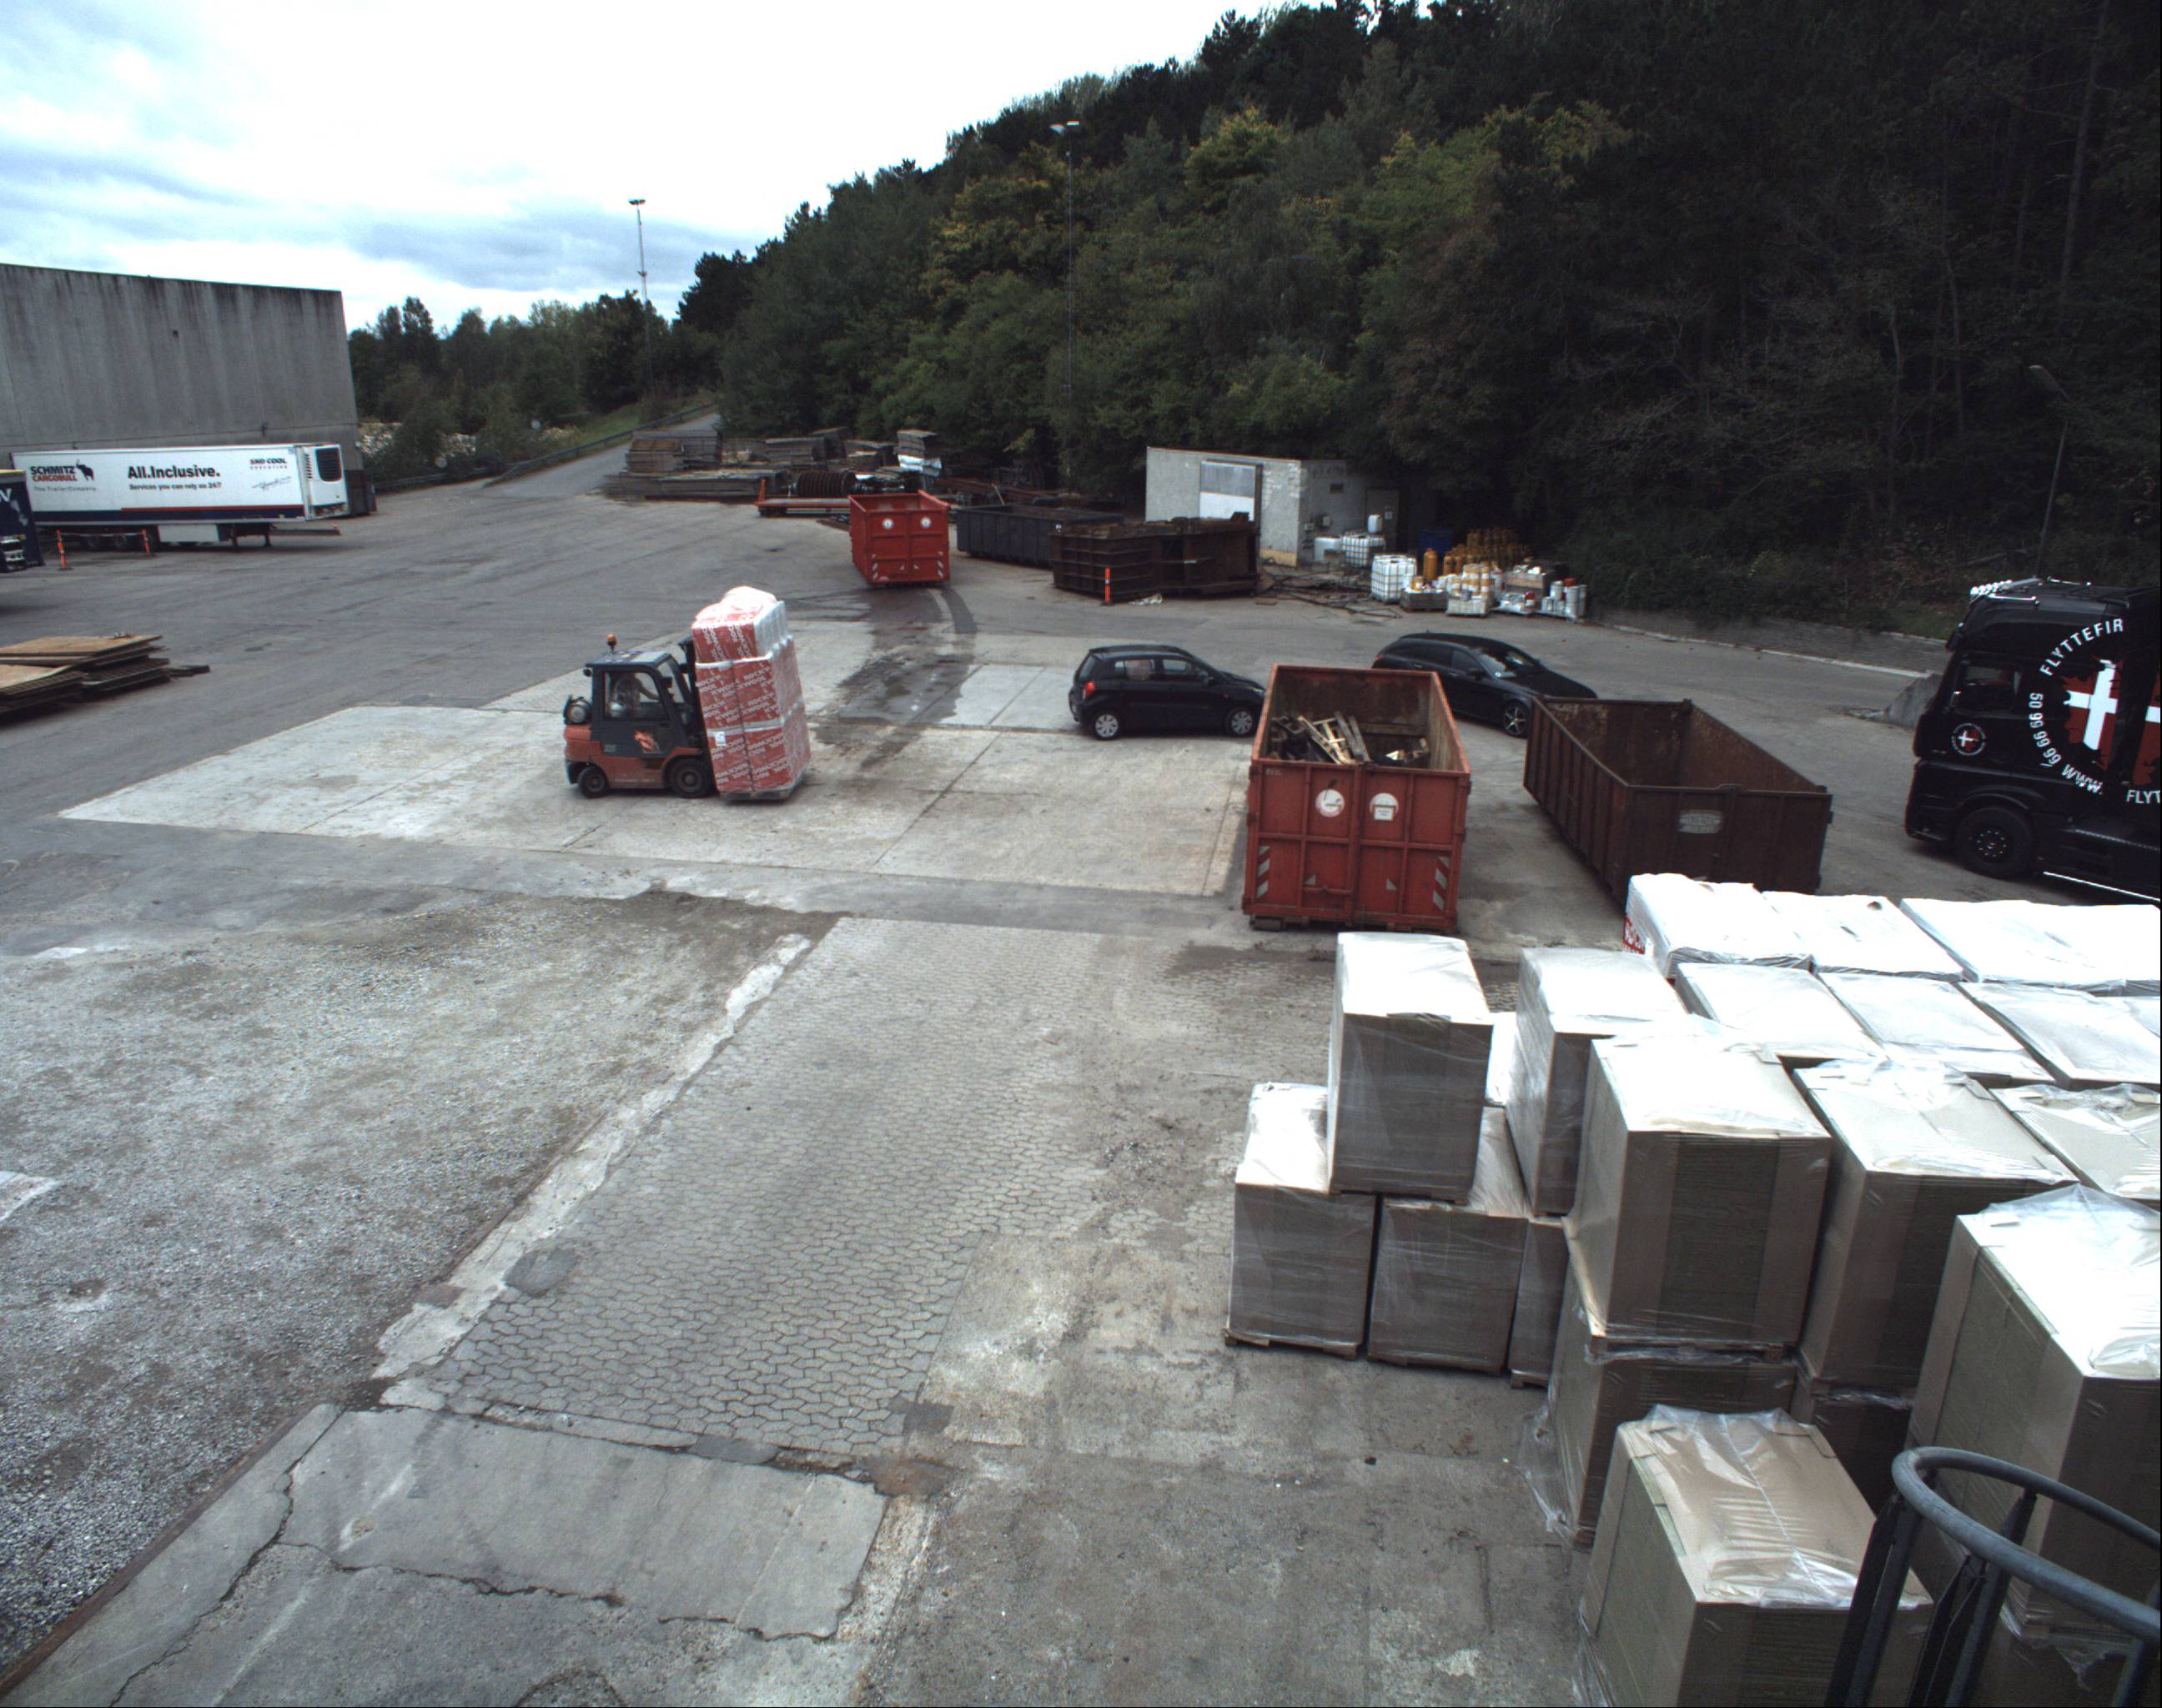rockwool_batts: (690, 599, 818, 799)
